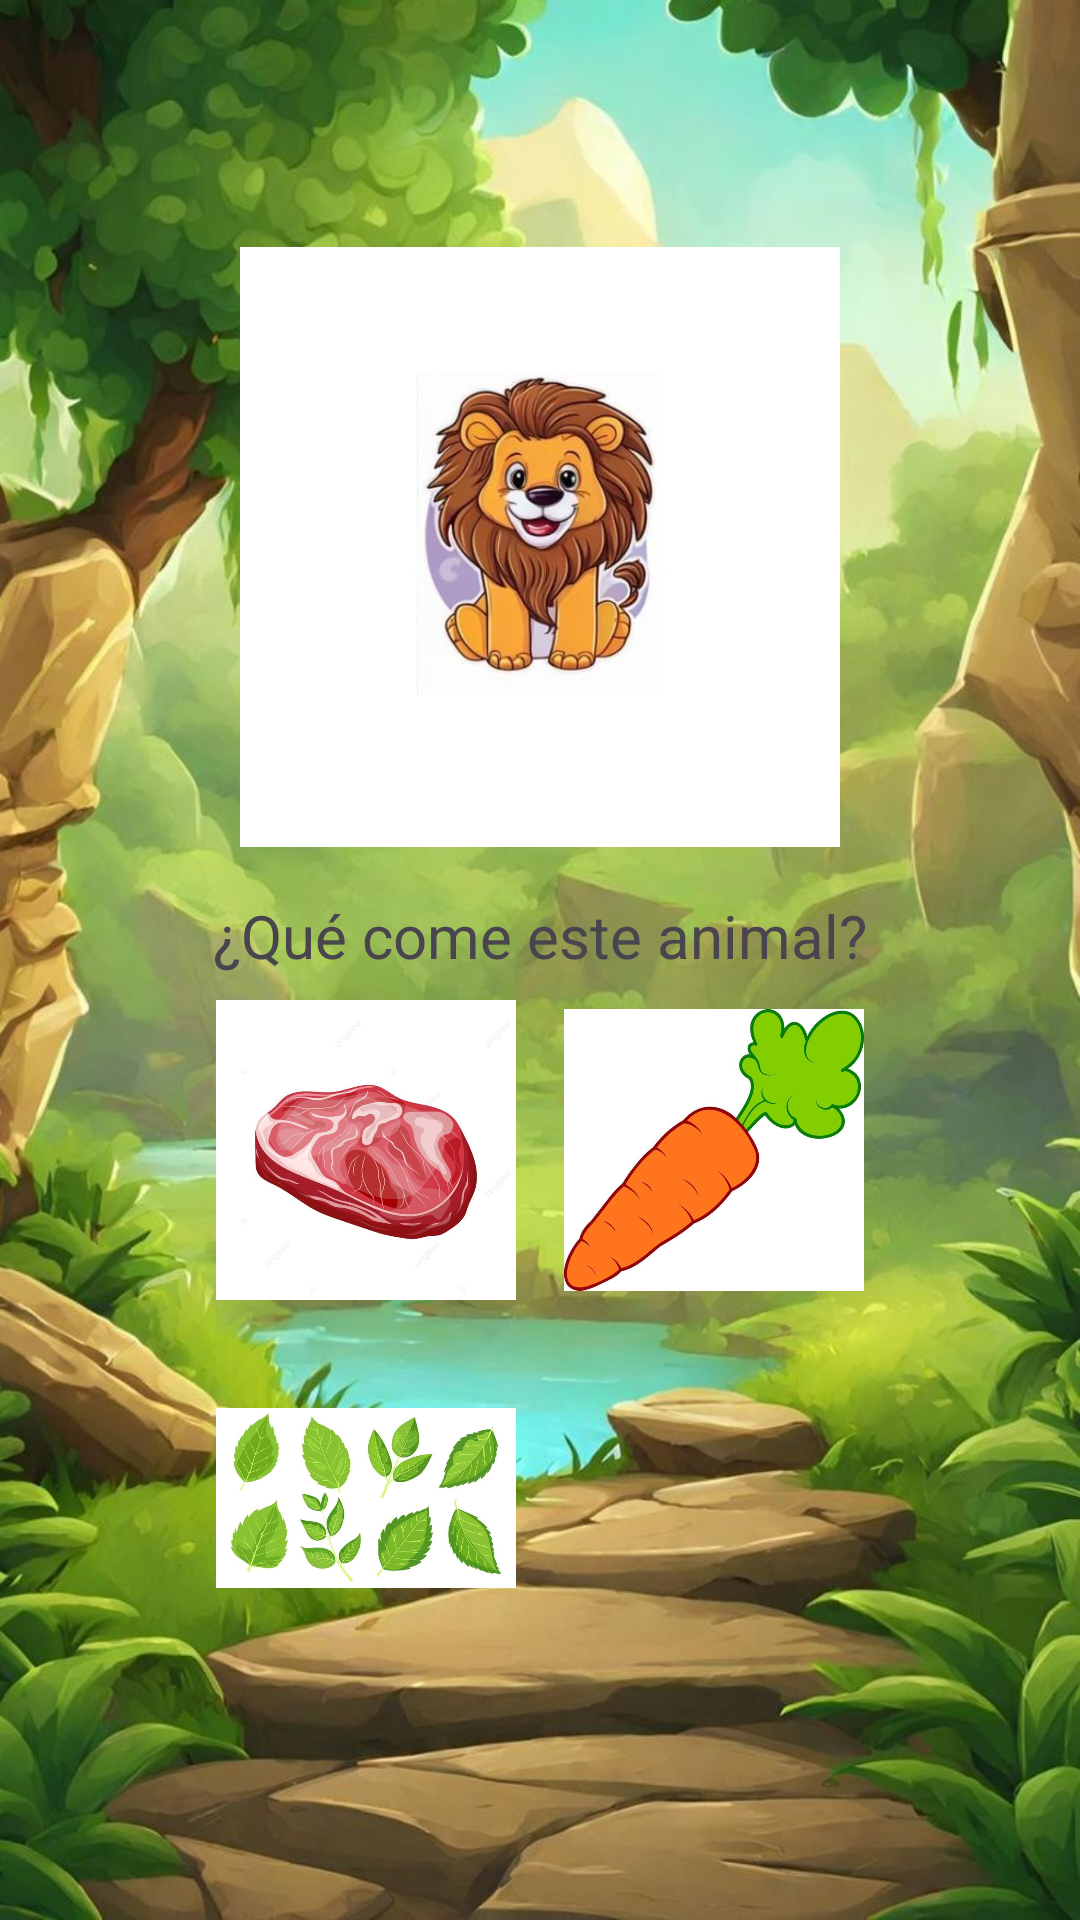

Icons on this 1080 x 1920 Android screen, each with the point to tap as [x,y]:
comida: [366,1150], [714,1150], [366,1498]
